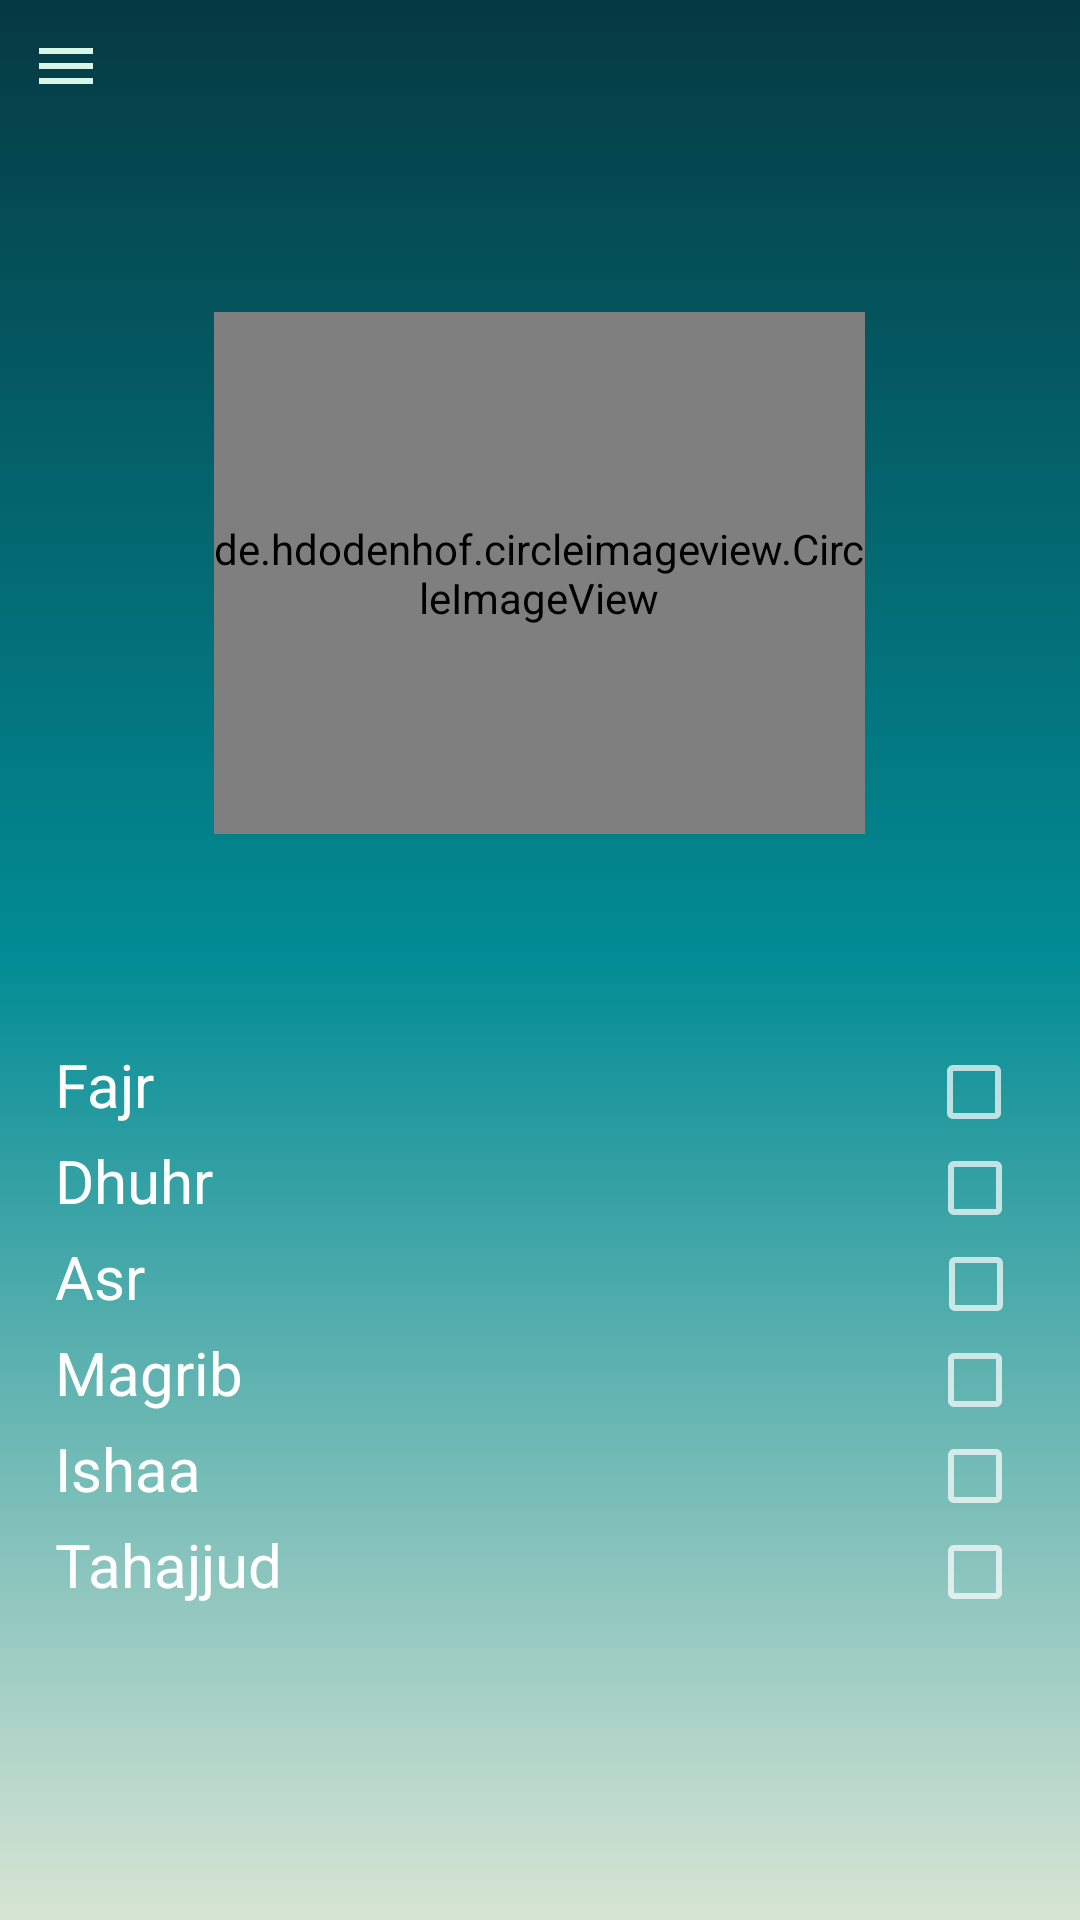

Where to tap for icons on this 1080*1920 app screen, as (x=x, y=y):
menu: (x=66, y=66)
